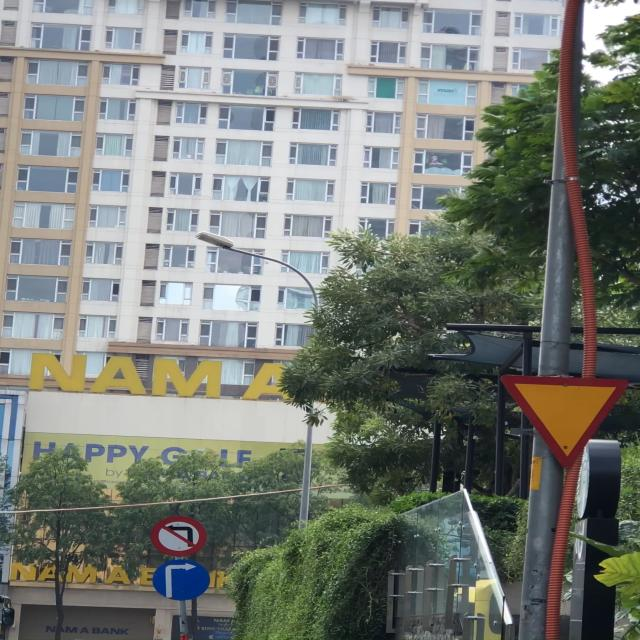Bien bao cam re trai: (148, 511, 211, 557)
Bien bao giao nhau voi duong uu tien: (494, 369, 627, 473)
Bien bao huong di phai theo: (151, 557, 215, 605)
